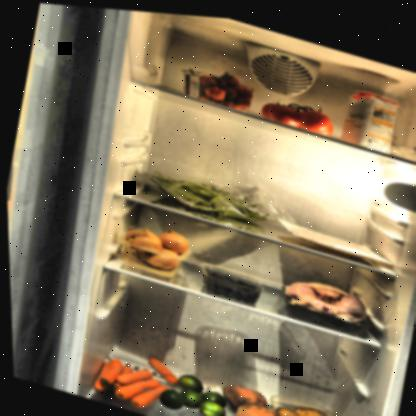blueberries: (199, 264, 259, 304)
carrot: (85, 338, 179, 415), (273, 265, 376, 334)
green_beans: (138, 152, 287, 235)
lime: (153, 364, 228, 415)
onion: (116, 213, 191, 275)
potato: (262, 390, 356, 415)
strawberries: (179, 58, 259, 111)
sweet_potato: (210, 374, 291, 415)
tomato: (256, 87, 338, 133)
